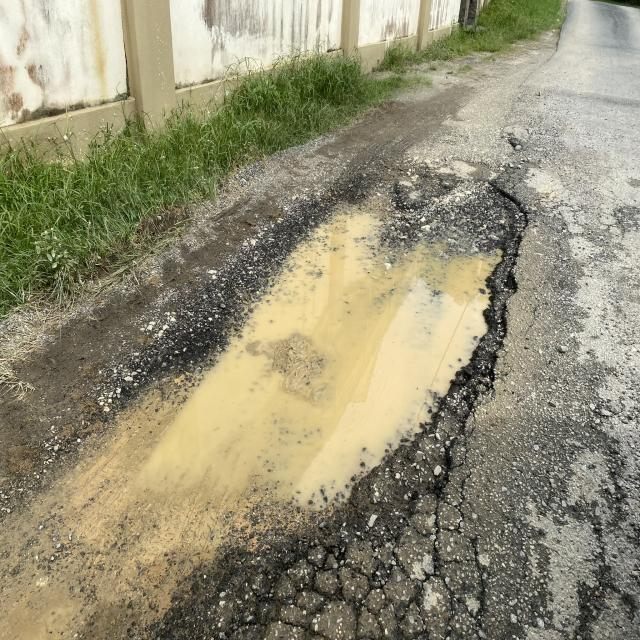pothole: (132, 168, 526, 540)
